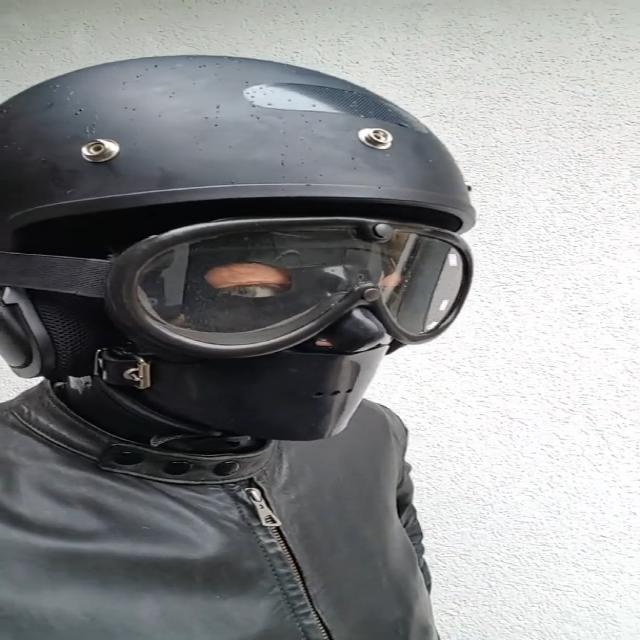Helmet_Wearer: (6, 57, 476, 454)
Jacket_Wearer: (0, 340, 530, 640)
Person: (0, 48, 484, 637)
